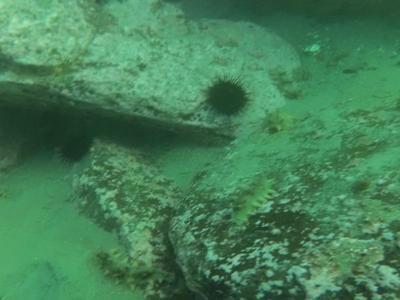holothurian: (94, 249, 182, 295), (229, 174, 276, 227), (263, 111, 305, 134)
urchin: (201, 74, 250, 117), (56, 124, 91, 163)
